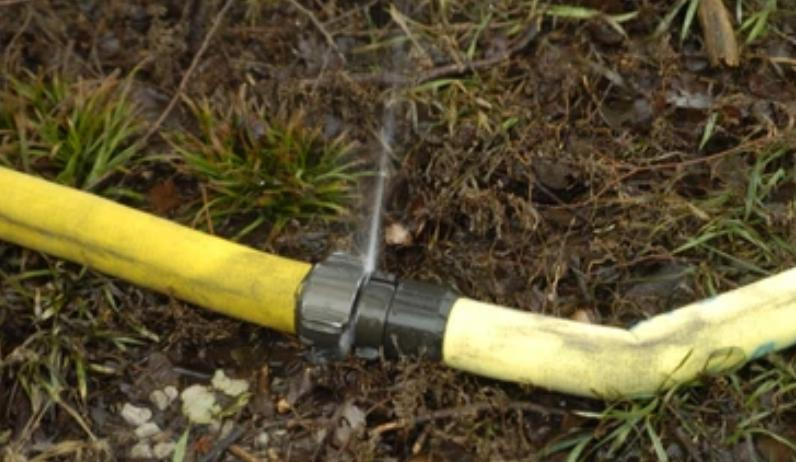pipe burst: (360, 80, 398, 280)
